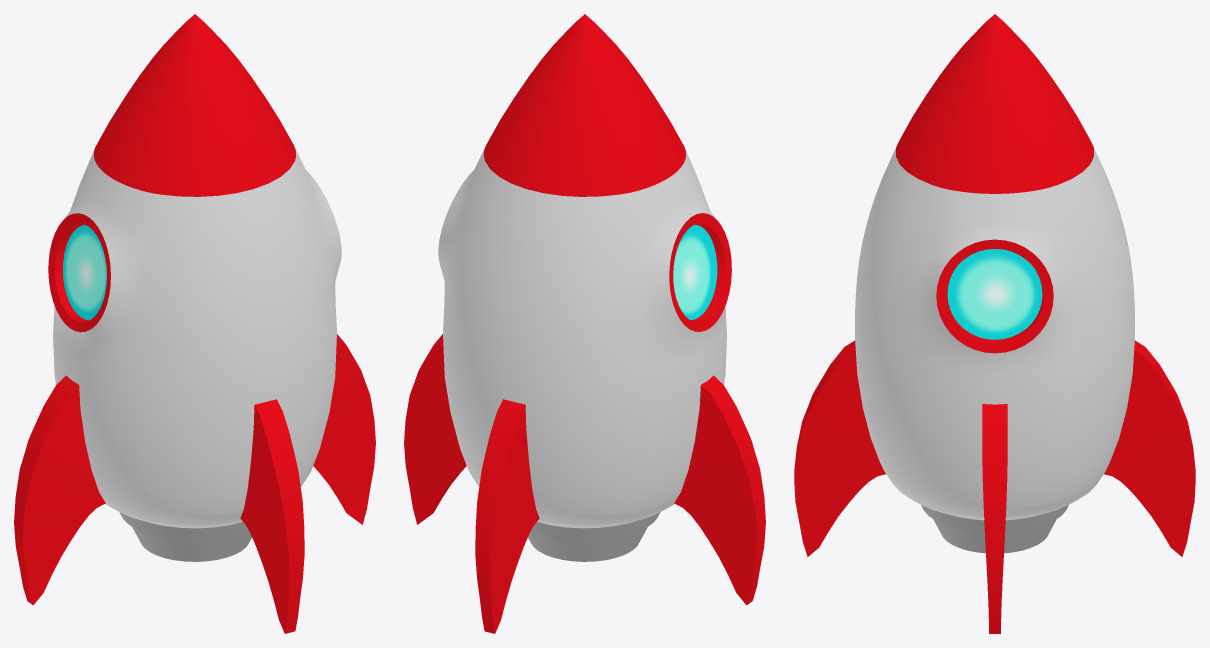
File: rocket.glb
The picture shows the model from 3 angles, left to right: view 1: azimuth 30°, elevation 25°; view 2: azimuth 150°, elevation 25°; view 3: azimuth 270°, elevation 25°; orthographic projection.
Visible parts, largest first — view 1: Vert; view 2: Vert; view 3: Vert.
Part boxes in pixels (x1,y1,x2,y2): Vert: (14,14,375,633); Vert: (404,14,765,633); Vert: (794,14,1195,633).
Size of the model in its own units: 2.21 by 3.28 by 2.21.
1 material, 1 textured.
